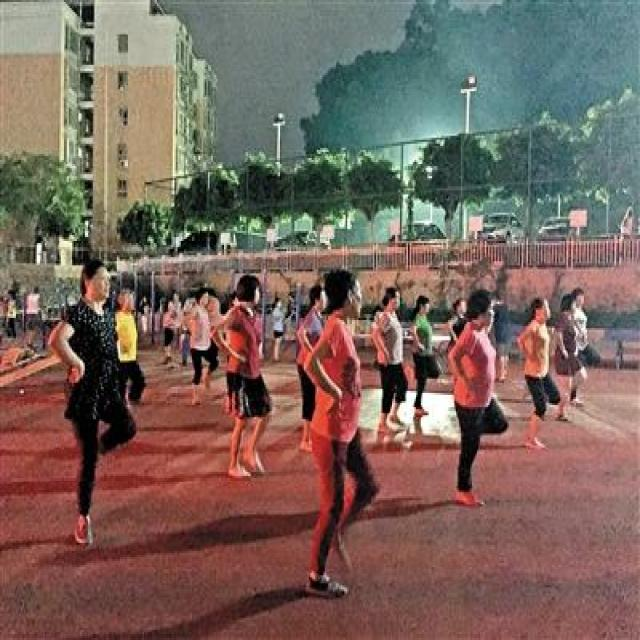non-fight: (293, 268, 381, 602), (45, 257, 142, 549), (442, 290, 511, 506), (214, 271, 277, 480), (515, 294, 562, 423)
